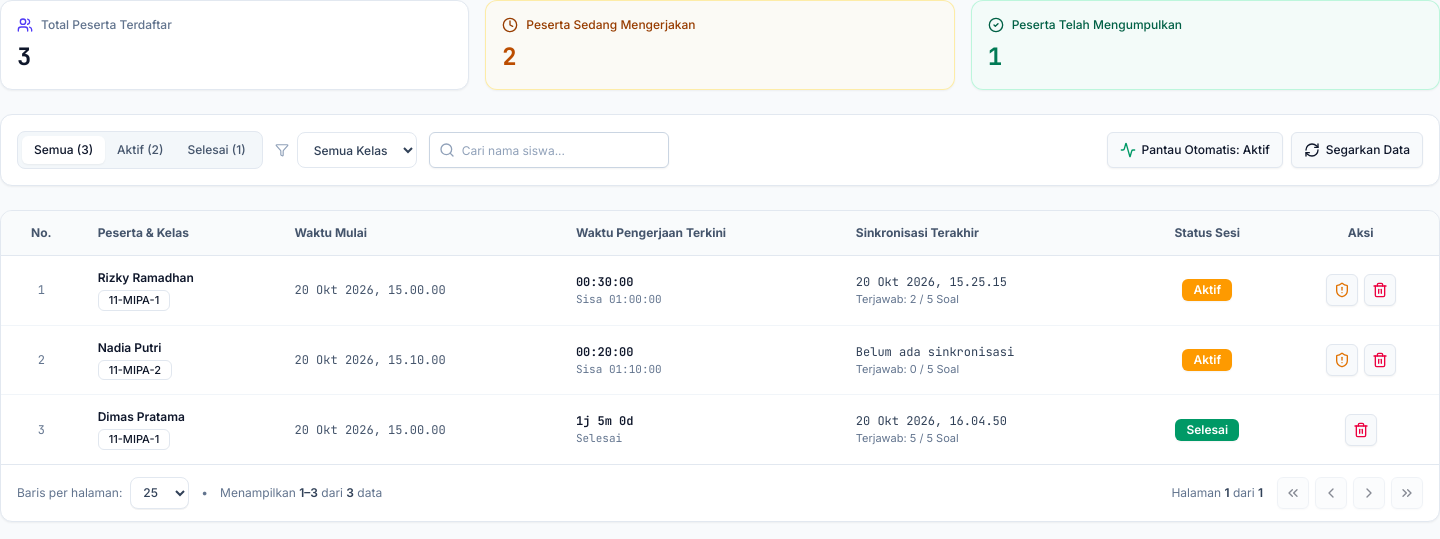
F5-04: Pemantauan Sesi Aktif / Real-Time Session Monitoring (ADM-MONI-01) › SessionMonitoringView Component › menyaring daftar sesi berdasarkan tab status, kelas, dan pencarian nama siswa
The image size is (1440, 539).
# Filter tab Aktif
Click the button "Aktif (2)" at [140, 150], box [105,136,175,164]
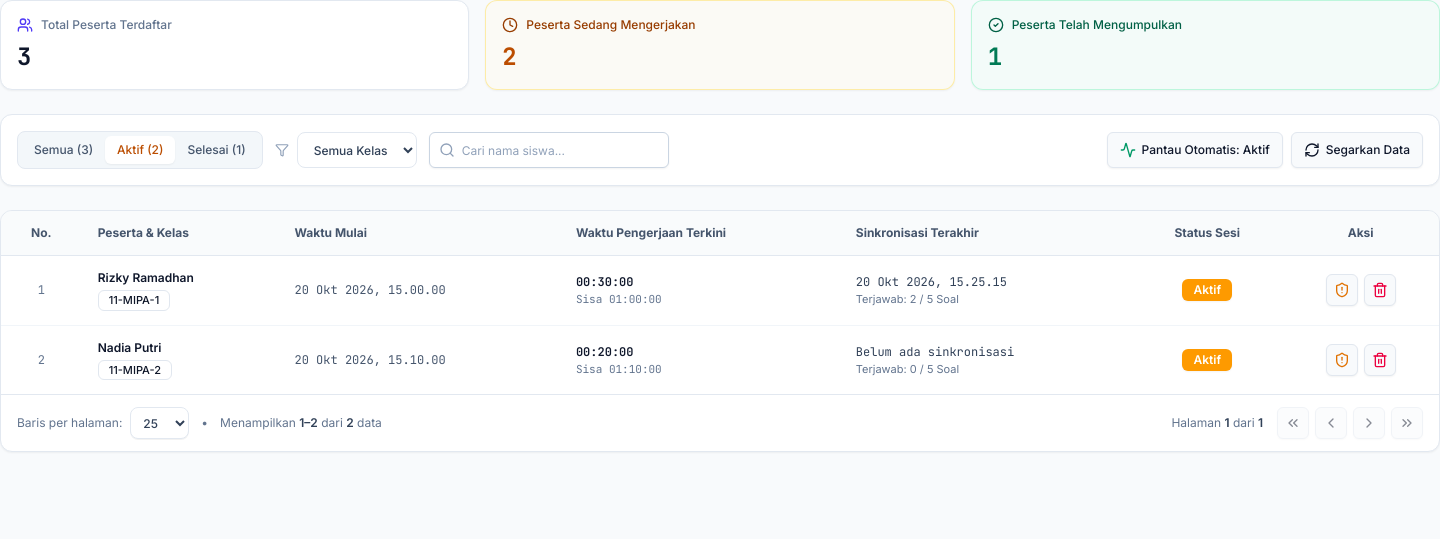
Expected: the text "Rizky Ramadhan" is shown, [98,270,194,285]
Result: the text "Dimas Pratama" is gone
# Filter kelas 11-MIPA-2
Select "11-MIPA-2" in the dropdown named "Filter Berdasarkan Kelas" at [357, 150], box [297,132,417,168]
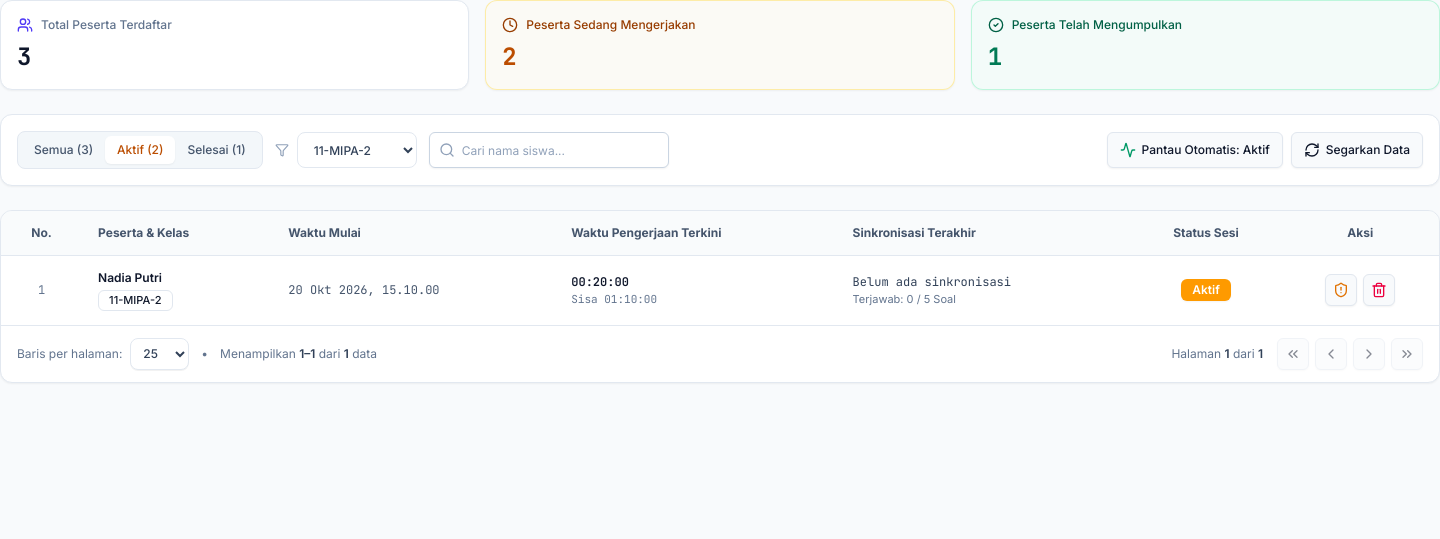
Expected: the text "Nadia Putri" is shown, [98,270,162,285]
Result: the text "Rizky Ramadhan" is gone
# Kembalikan ke Semua Kelas & Semua Status, lalu cari nama
Select "Semua Kelas" in the dropdown named "Filter Berdasarkan Kelas" at [357, 150], box [297,132,417,168]
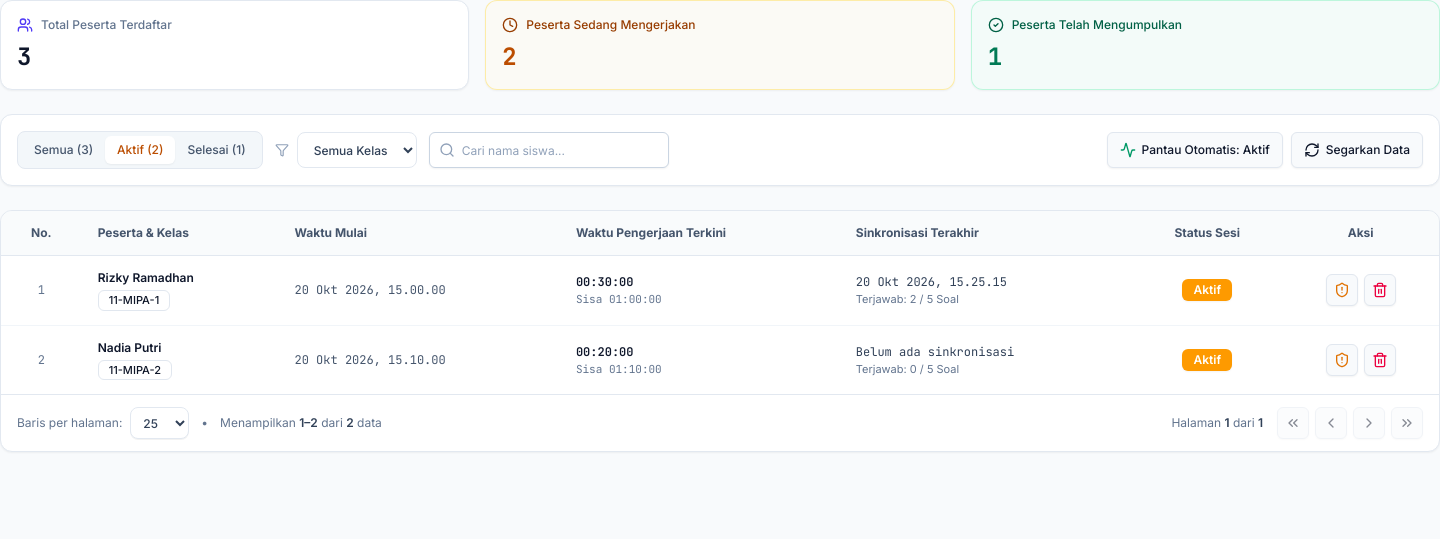
Click the button "Semua (3)" at [64, 150], box [22,136,105,164]
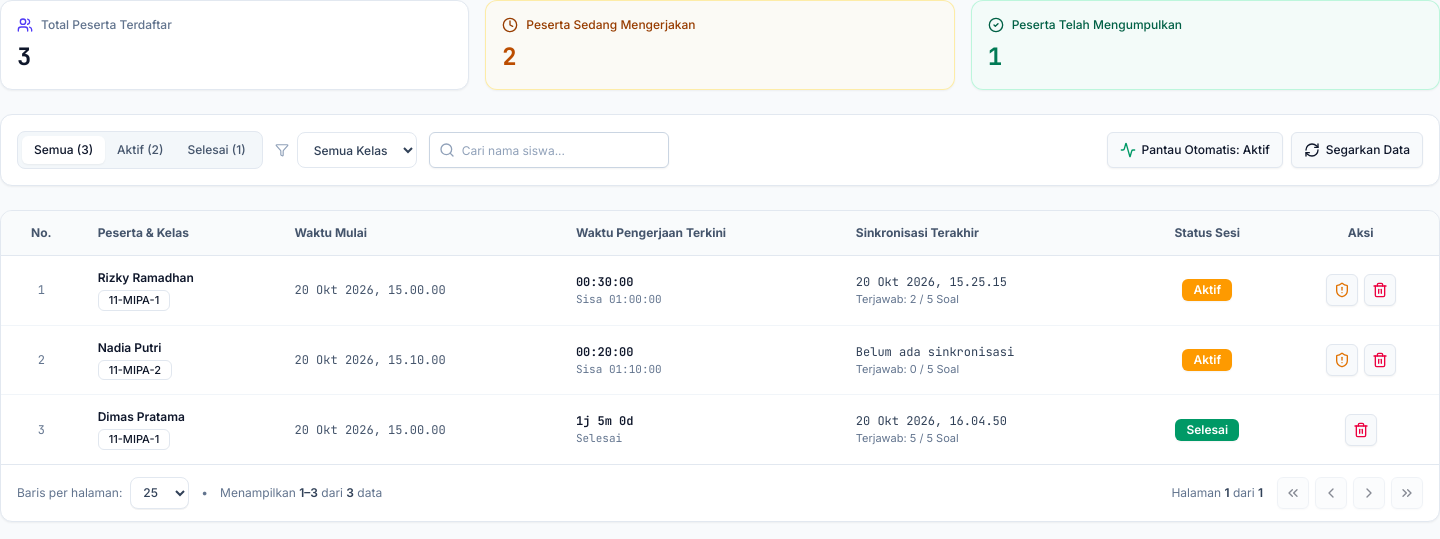
Type "dimas" into the field labelled "Cari nama siswa" at [549, 150], box [429,132,669,168]
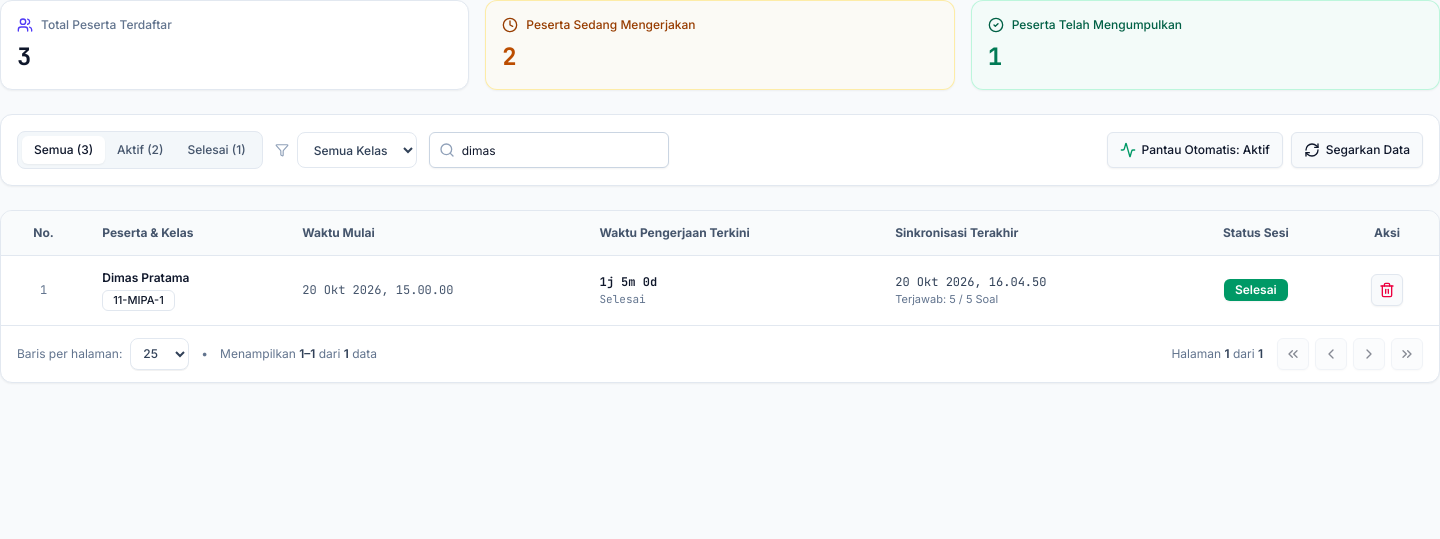
Result: the text "Dimas Pratama" is shown at [102,270,190,285]
Result: the text "Rizky Ramadhan" is gone
